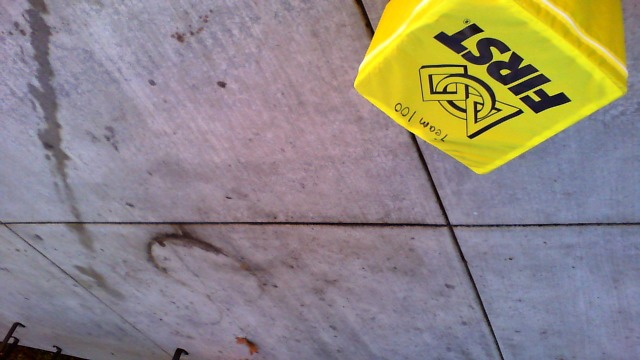cube: (354, 1, 631, 174)
